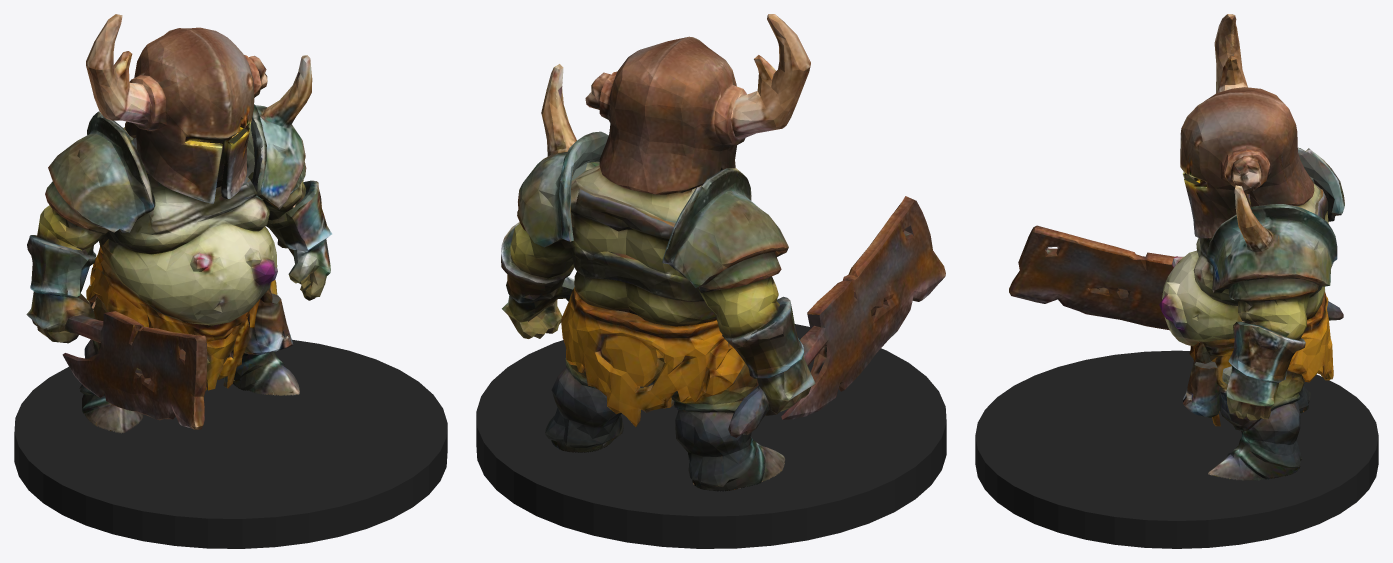
File: mon-putrid-blightking.glb
The picture shows the model from 3 angles, left to right: view 1: azimuth 30°, elevation 25°; view 2: azimuth 150°, elevation 25°; view 3: azimuth 270°, elevation 25°; orthographic projection. The views are drawn at different scales.
Parts seen in each view (by area): view 1: figure, base; view 2: figure, base; view 3: figure, base.
Part boxes in pixels (box(x1,y1,x2,y2)): figure: box(26, 14, 331, 433); base: box(14, 339, 447, 548); figure: box(501, 14, 945, 491); base: box(476, 324, 946, 548); figure: box(1009, 14, 1344, 480); base: box(975, 350, 1378, 548).
Size of the model in its own units: 1.57 by 1.77 by 1.57.
Materials: 2 (1 with a texture image).
